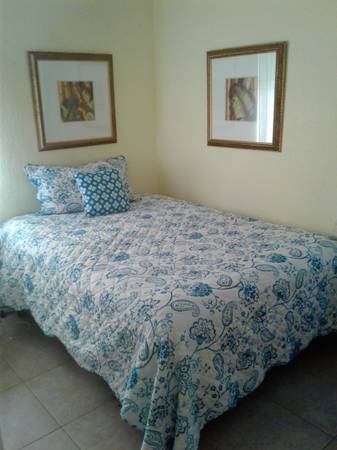bed: (2, 192, 337, 450)
